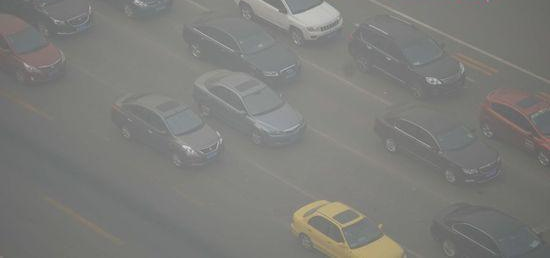car: (372, 100, 503, 189), (345, 14, 464, 102), (182, 12, 302, 92), (191, 67, 307, 149), (108, 91, 227, 170), (288, 198, 407, 258), (429, 202, 550, 257), (477, 85, 550, 168), (233, 1, 345, 48), (1, 12, 67, 87), (2, 1, 95, 39), (102, 1, 173, 22)
